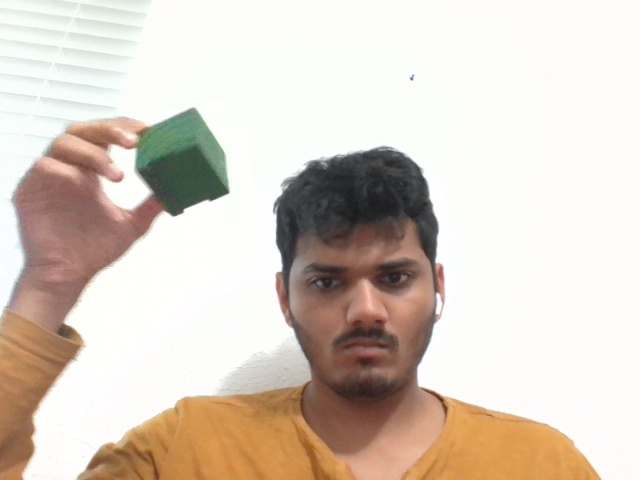GreenBlock: (136, 107, 230, 217)
